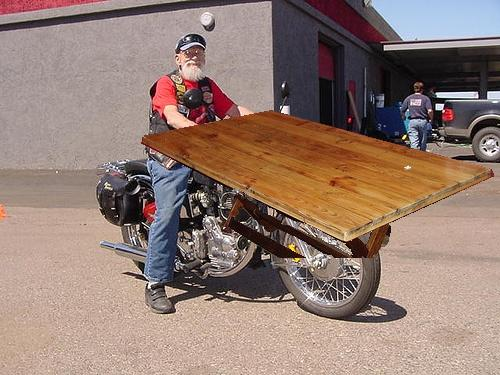tampered: (142, 111, 494, 258)
